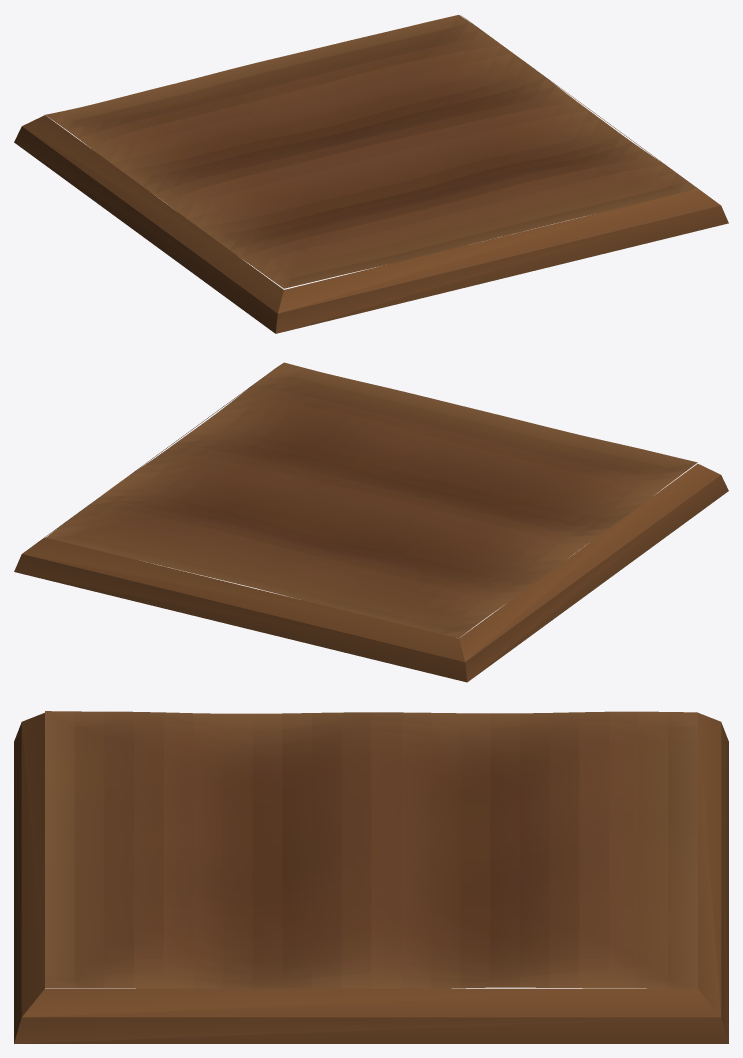
The model's file is plot.glb.
3 renders of one model, top to bottom at view 1: azimuth 30°, elevation 25°; view 2: azimuth 150°, elevation 25°; view 3: azimuth 270°, elevation 25°, orthographic. The views are drawn at different scales.
Visible parts, largest first — view 1: plot; view 2: plot; view 3: plot.
Part boxes in pixels (<box>): plot: <box>14,15,728,333</box>; plot: <box>14,362,728,682</box>; plot: <box>14,711,728,1043</box>.
Size of the model in its own units: 1.84 by 0.1462 by 1.84.
